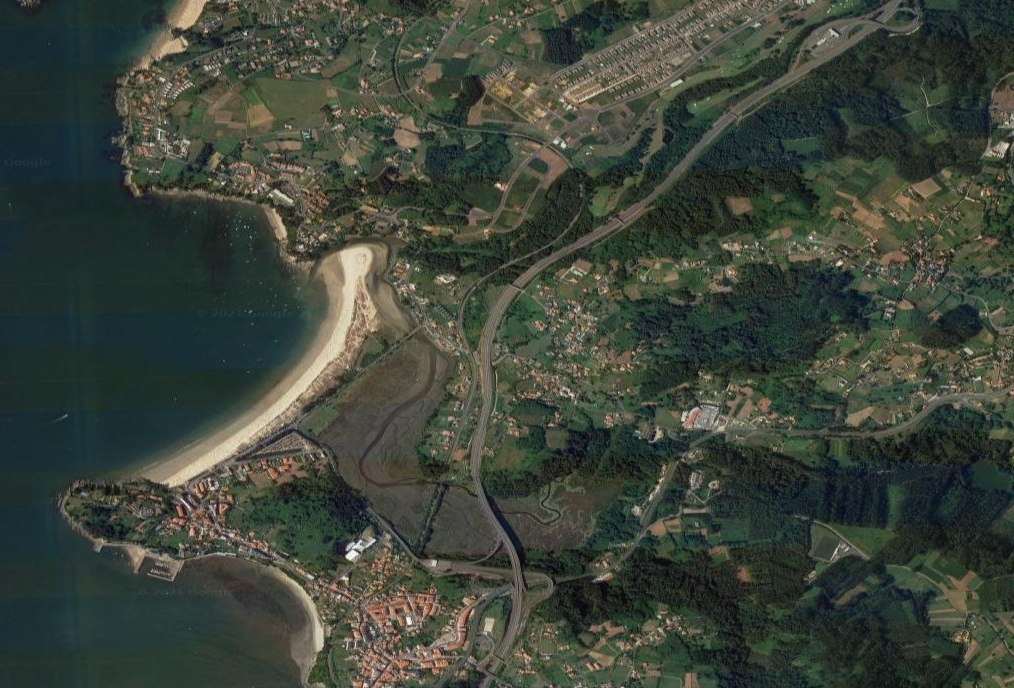bridge: (476, 488, 516, 558)
motorway: (610, 123, 721, 228), (494, 219, 610, 308), (718, 50, 827, 127), (463, 459, 526, 580), (466, 307, 501, 458), (480, 582, 529, 688), (826, 1, 904, 56)
